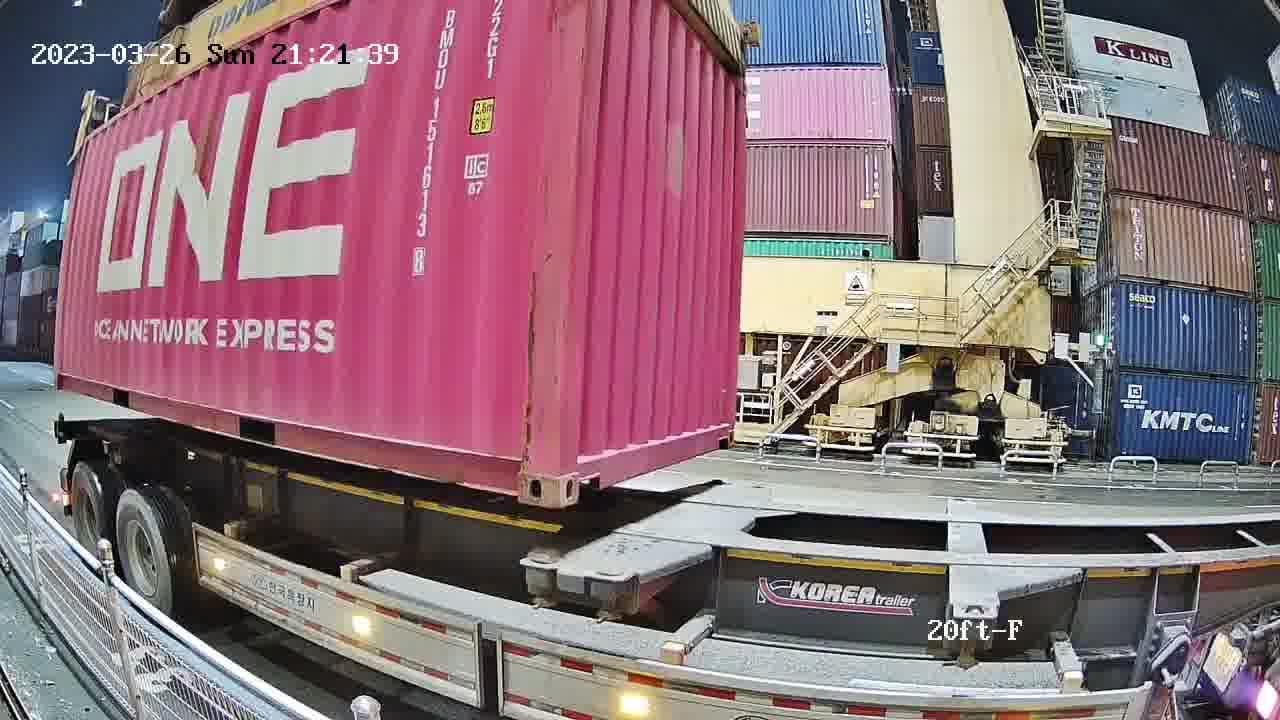Chassis: (523, 480, 729, 565), (589, 486, 769, 577)
Cone: (586, 565, 636, 627), (524, 550, 561, 613)
Hole_L: (561, 429, 612, 510)
Hole_R: (479, 433, 560, 509), (710, 406, 736, 453)
Tire: (110, 488, 172, 621), (70, 462, 112, 567)
